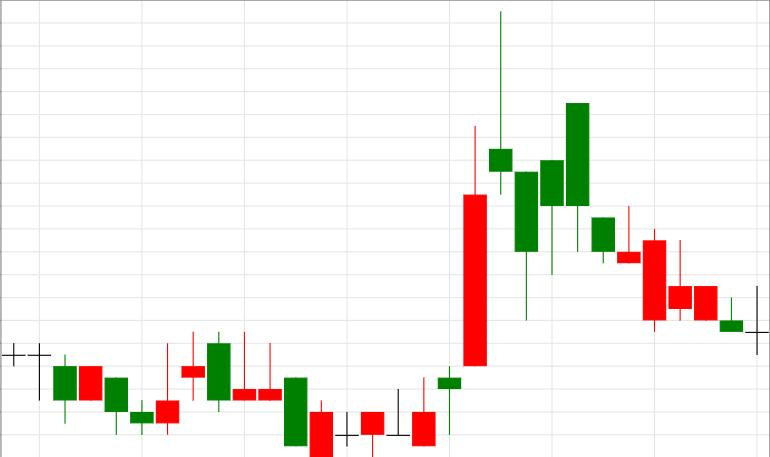evening_star_fall: (361, 11, 538, 457)
